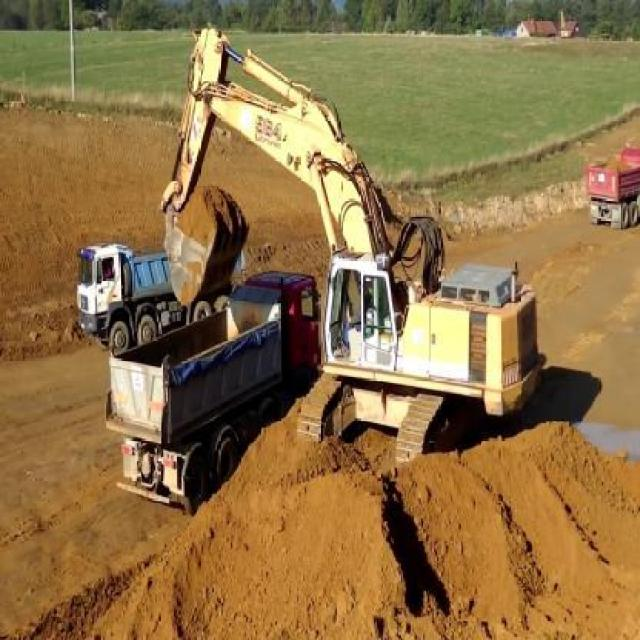dump_truck: (103, 264, 320, 516), (74, 242, 246, 358), (584, 144, 640, 229)
excavator: (159, 24, 543, 470)
